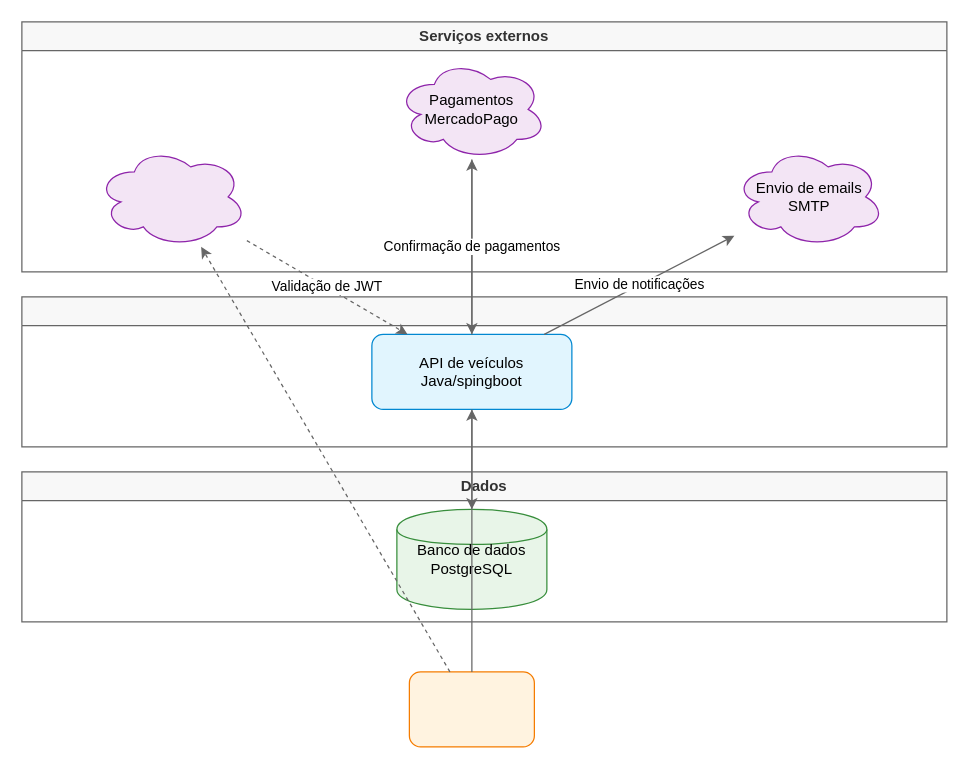
This 969x769 diagram has some shape labels left out. The box of each missing label's shape, as (x1, y1, x2, y2) in pixels:
Aplicação: (21, 296, 947, 447)
Autenticação Auth0: (96, 146, 247, 247)
Clientes Web e Mobile: (408, 671, 534, 747)
